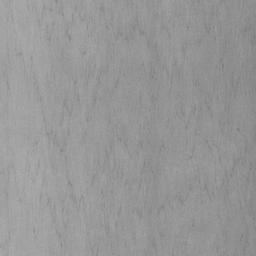Silk spot: (46, 130, 67, 152), (70, 192, 84, 211), (232, 157, 246, 172), (143, 161, 158, 174), (222, 170, 232, 185), (149, 62, 157, 80), (204, 24, 215, 34), (66, 28, 72, 42)
